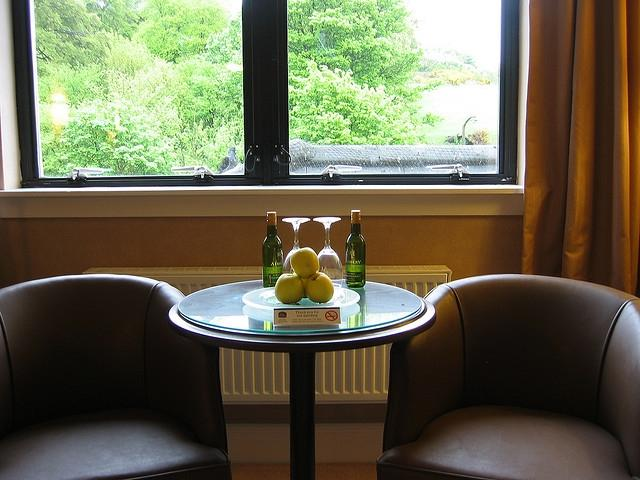apple: (290, 247, 320, 279), (274, 273, 304, 304), (306, 272, 334, 303), (301, 277, 309, 298)
